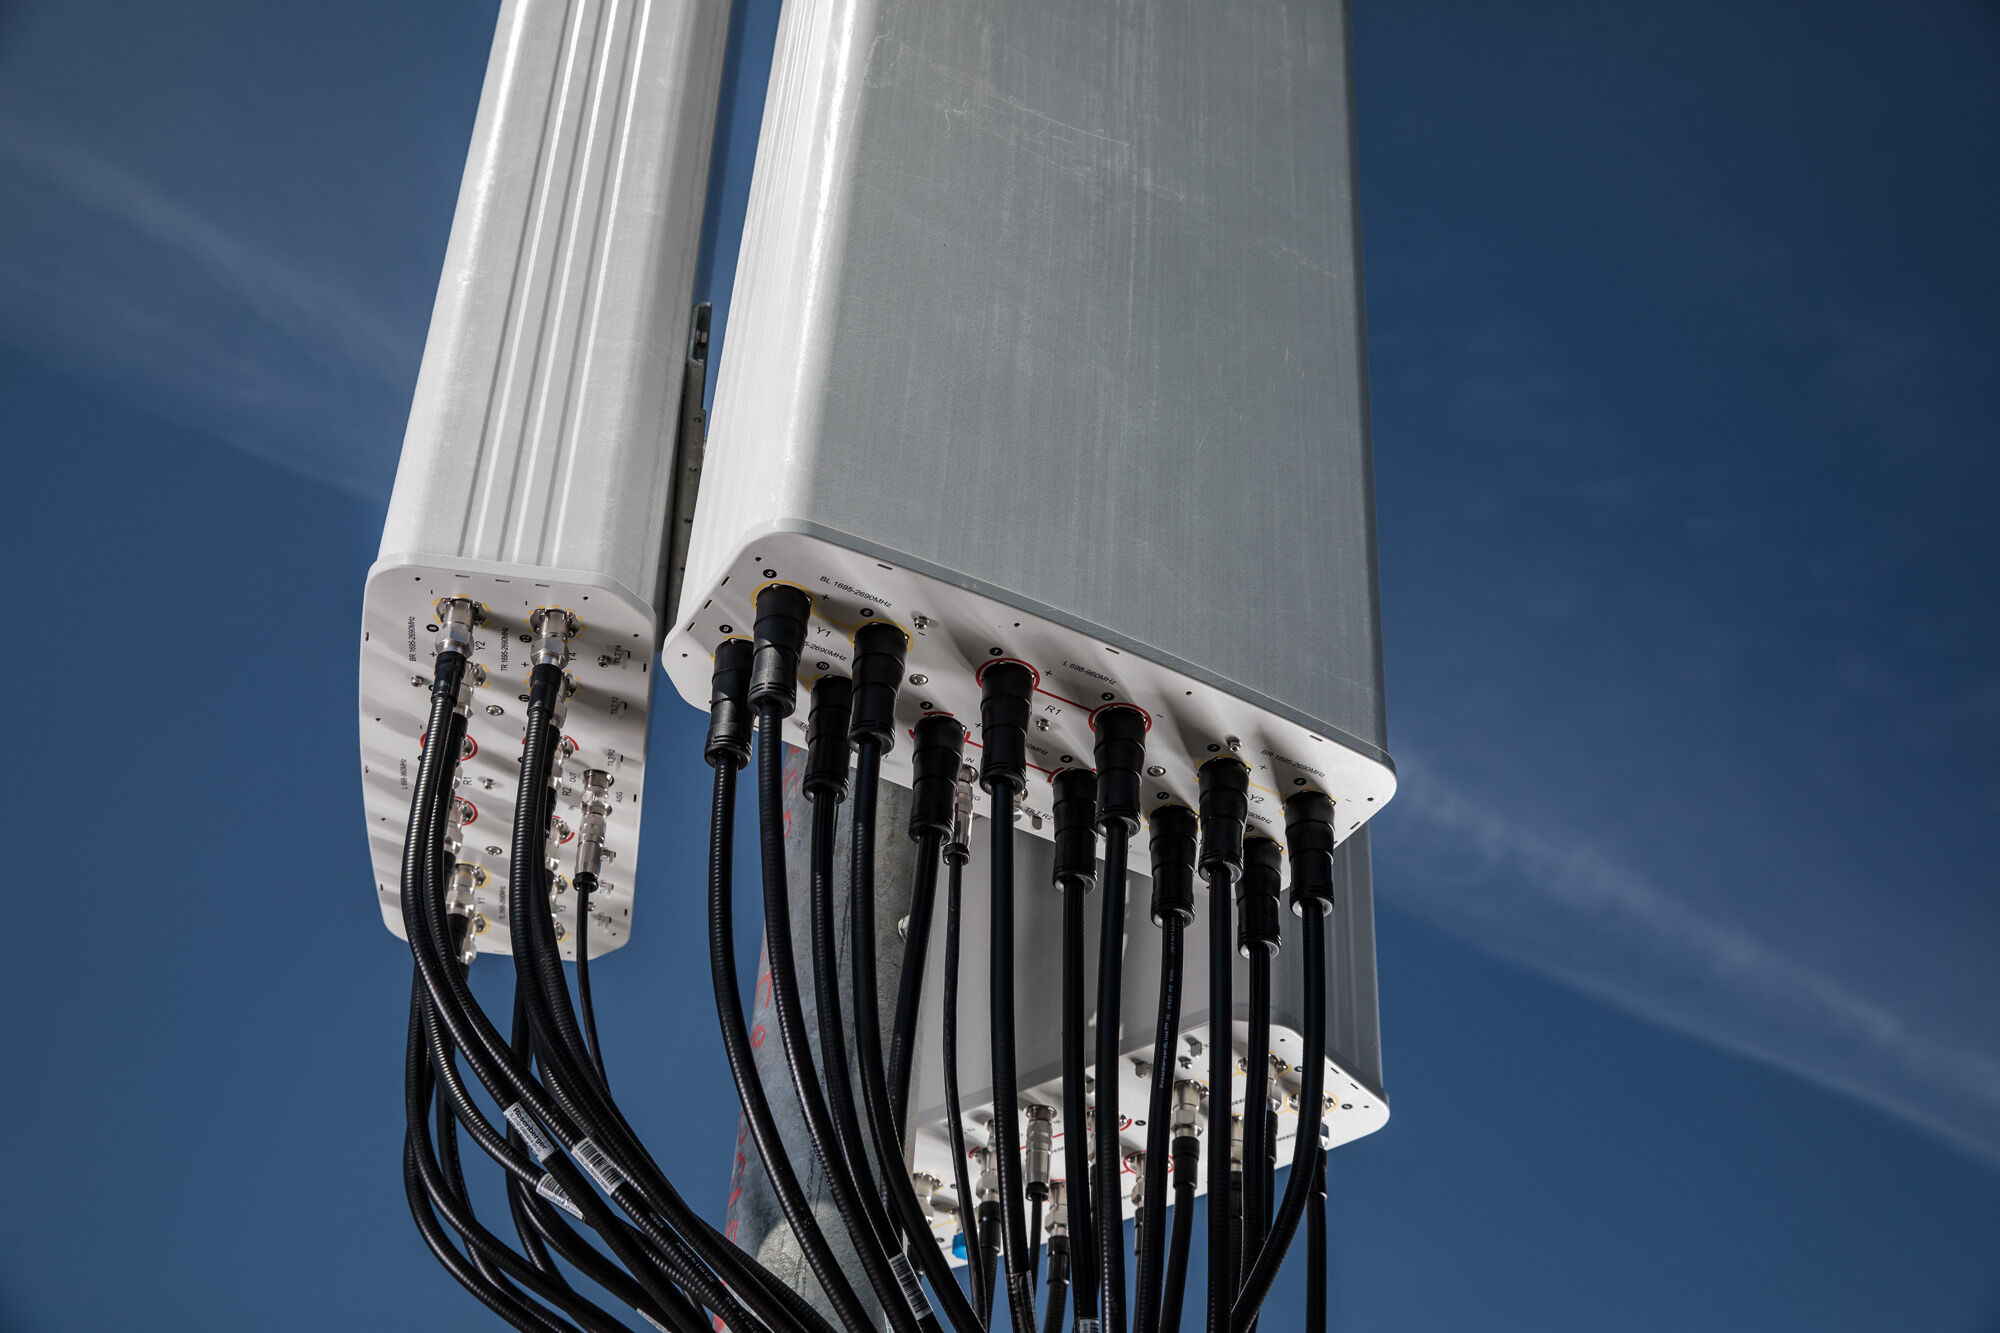sa: (433, 15, 1414, 1114)
